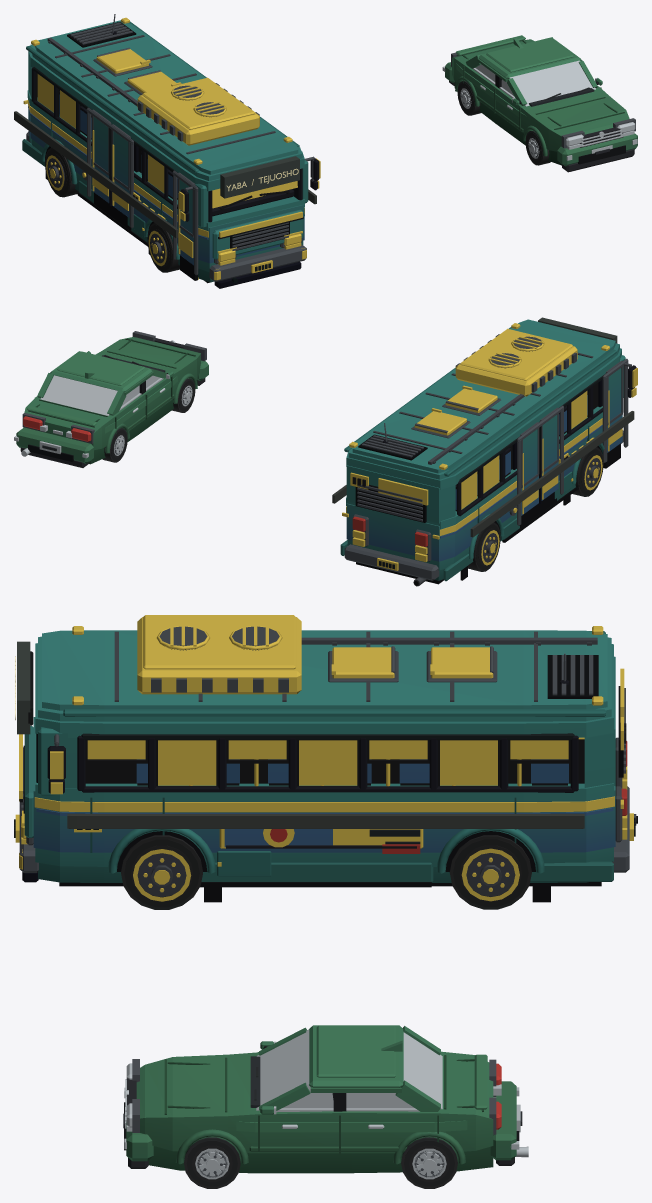
The model's file is yaba-vehicle-model-pack.glb.
The picture shows the model from 3 angles, top to bottom: view 1: azimuth 30°, elevation 25°; view 2: azimuth 150°, elevation 25°; view 3: azimuth 270°, elevation 25°; orthographic projection. The views are drawn at different scales.
Parts seen in each view (by area): view 1: LAGOS_DANFO_MESH, LAGOS_SEDAN_MESH, Danfo_Route_Board, Danfo_Side_Stripe_Left; view 2: LAGOS_DANFO_MESH, LAGOS_SEDAN_MESH, Danfo_Side_Stripe_Left, Danfo_Route_Board; view 3: LAGOS_DANFO_MESH, LAGOS_SEDAN_MESH, Danfo_Side_Stripe_Right, Danfo_Route_Board.
Boxes of the visible parts, x1,y1,x2,y2 form: LAGOS_DANFO_MESH: (22, 14, 320, 288); LAGOS_SEDAN_MESH: (442, 35, 637, 172); Danfo_Route_Board: (220, 156, 299, 198); Danfo_Side_Stripe_Left: (14, 111, 178, 237); LAGOS_DANFO_MESH: (340, 319, 637, 586); LAGOS_SEDAN_MESH: (14, 331, 208, 467); Danfo_Side_Stripe_Left: (470, 411, 634, 537); Danfo_Route_Board: (538, 317, 617, 343); LAGOS_DANFO_MESH: (14, 615, 637, 909); LAGOS_SEDAN_MESH: (123, 1025, 528, 1188); Danfo_Side_Stripe_Right: (67, 814, 584, 828); Danfo_Route_Board: (17, 641, 30, 734).
Size of what is drawn, in the model's own units: 6.78 by 1.92 by 4.71.
